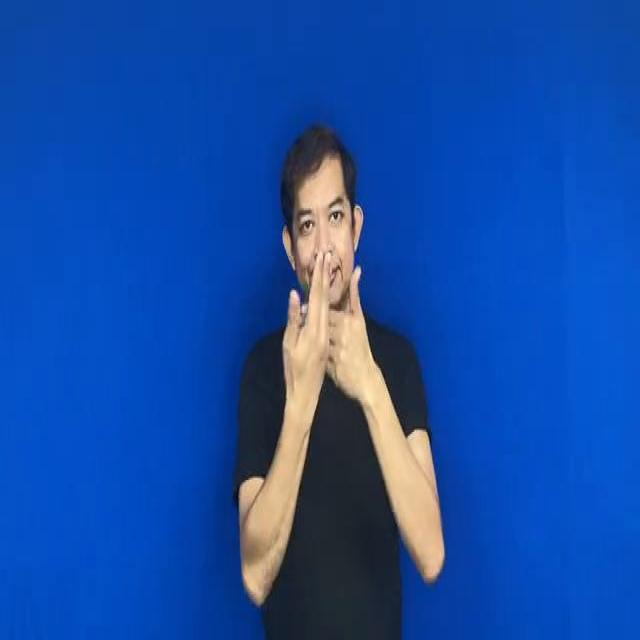bread: (285, 243, 378, 417)
